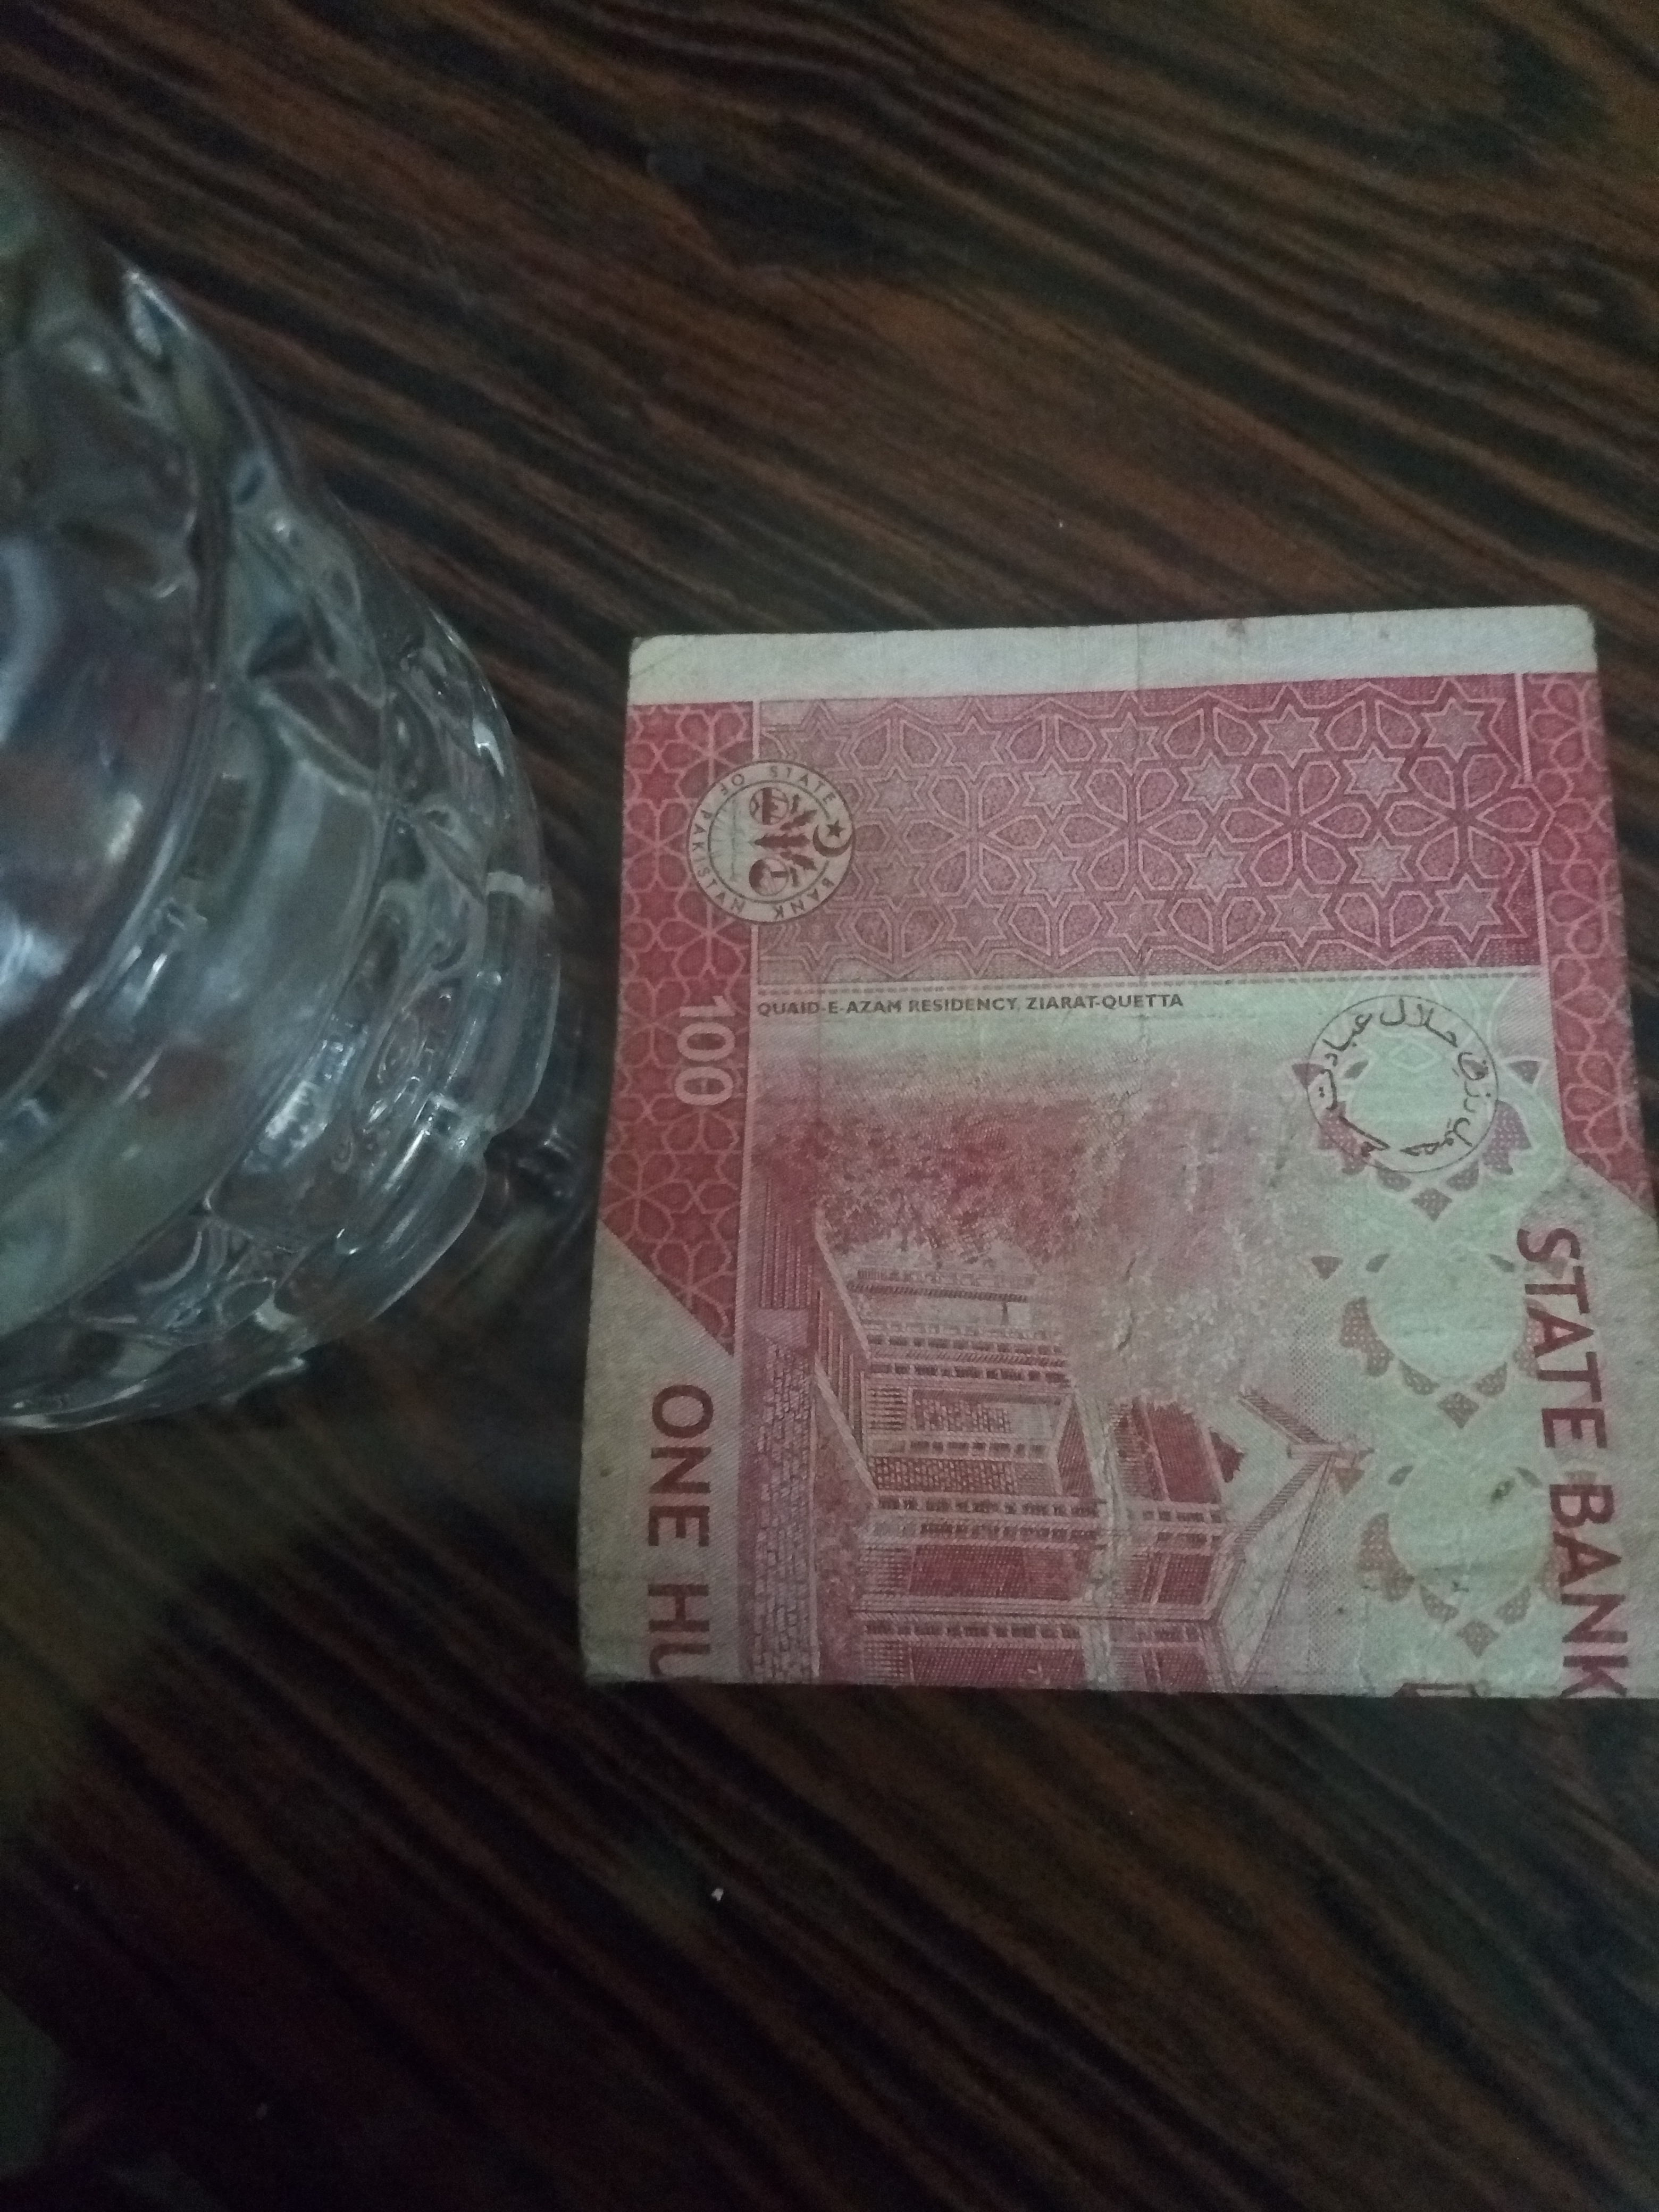100 rupee: (599, 617, 1659, 1728)
